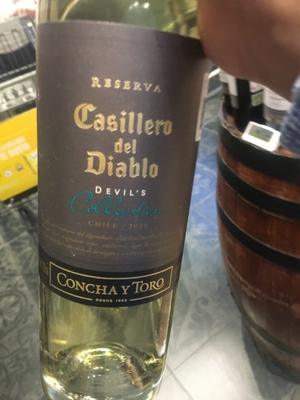casillero del diablo devils collection verde: (23, 20, 221, 400)
